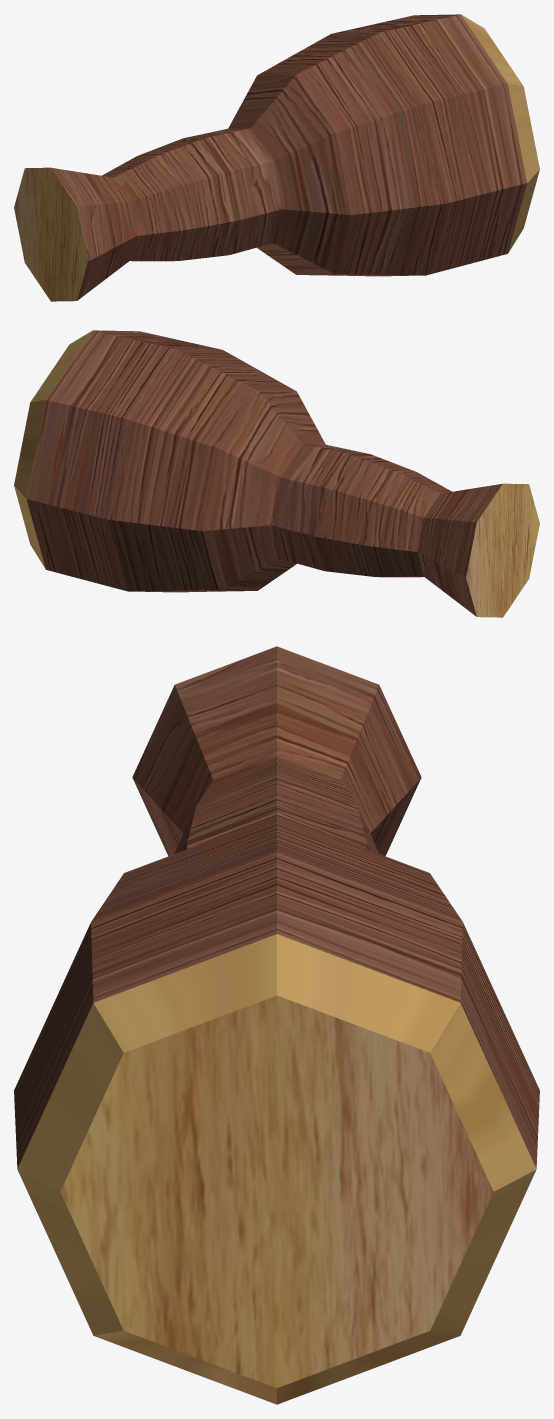
Rendered from Gedombak.fbx.
The picture shows the model from 3 angles, top to bottom: view 1: azimuth 30°, elevation 25°; view 2: azimuth 150°, elevation 25°; view 3: azimuth 270°, elevation 25°; orthographic projection. The views are drawn at different scales.
Parts seen in each view (by area): view 1: Gedombak; view 2: Gedombak; view 3: Gedombak.
Part boxes in pixels (x1=…): Gedombak: x1=14, y1=14, x2=539, y2=301; Gedombak: x1=14, y1=330, x2=539, y2=617; Gedombak: x1=14, y1=646, x2=539, y2=1404.
Size of the model in its own units: 111 by 59.46 by 59.46.
1 material, 1 textured.
